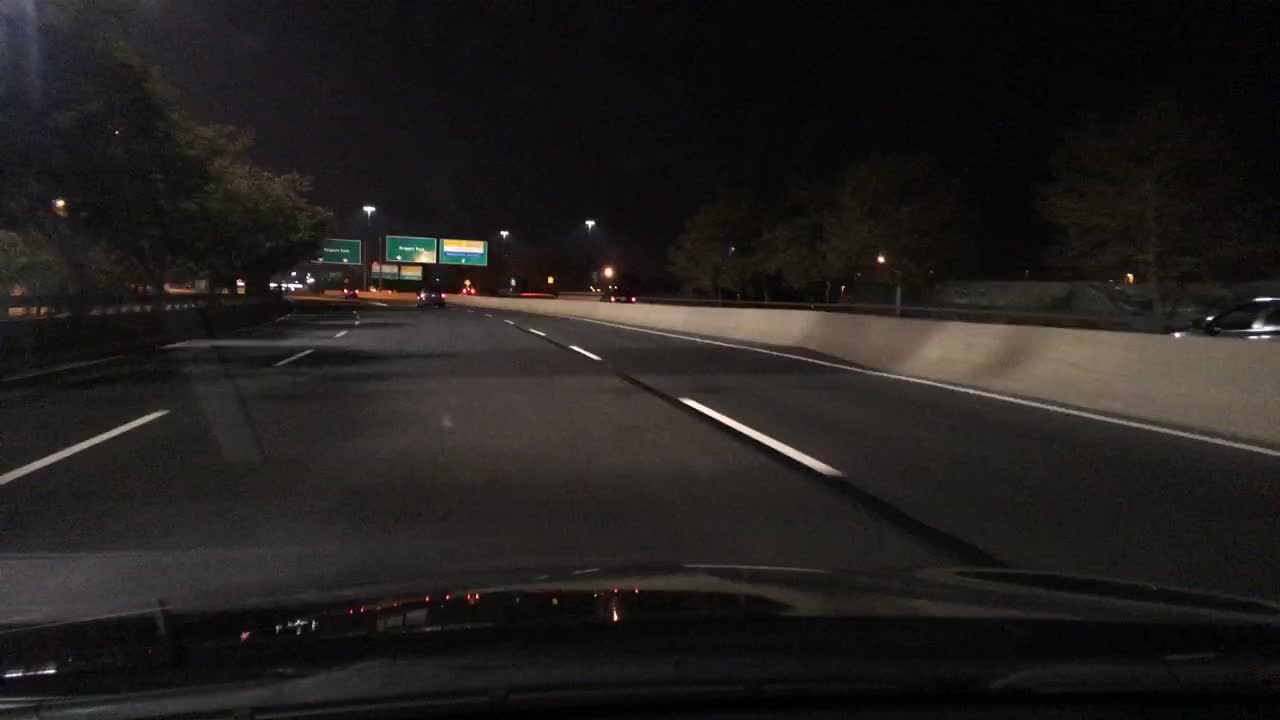car: (1166, 287, 1278, 350), (413, 283, 446, 308), (599, 285, 636, 305), (507, 284, 555, 299), (342, 287, 360, 301), (458, 284, 477, 296), (287, 281, 305, 293), (235, 276, 247, 287), (278, 279, 289, 291), (268, 278, 281, 288), (365, 284, 377, 294), (377, 287, 395, 293)
traffic sign: (305, 233, 362, 265), (384, 233, 437, 263), (438, 238, 488, 266), (371, 262, 398, 280), (399, 265, 423, 283), (546, 272, 554, 284)
